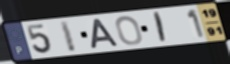1: (185, 8, 206, 40)
5: (25, 23, 53, 55)
A: (91, 18, 121, 51)
I: (58, 19, 78, 54), (153, 11, 168, 44)
O: (114, 15, 144, 46)
